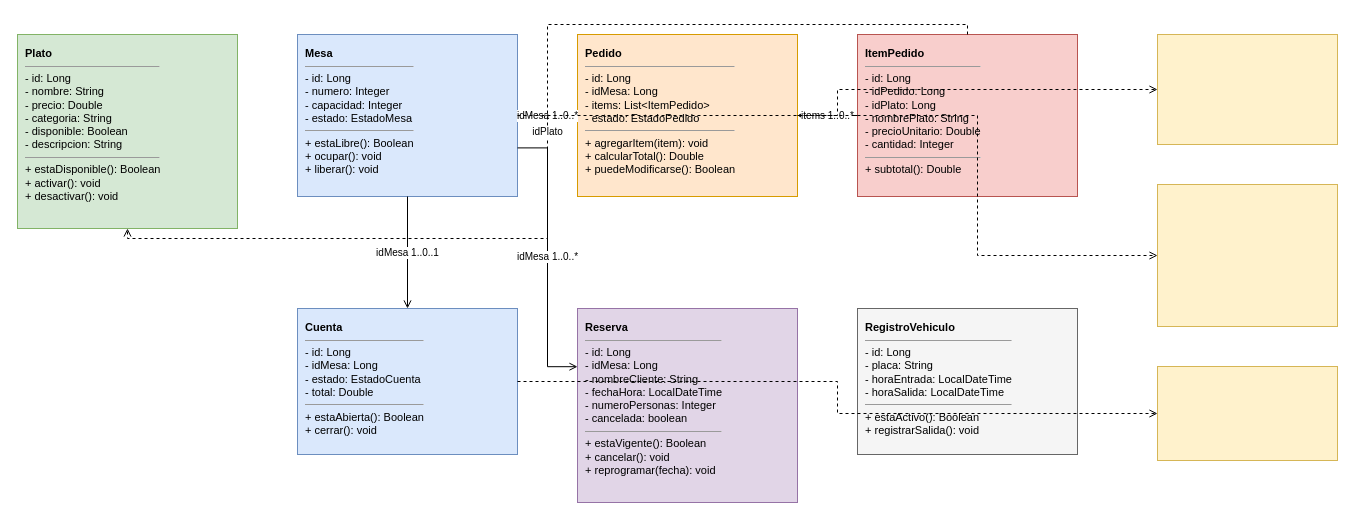
This 1355x520 diagram has some shape labels left out. The box of each missing label's shape, as (x1, y1, x2, y2) in pixels:
«enumeration» EstadoCuenta ABIERTA CERRADA: (1156, 366, 1338, 460)
«enumeration» EstadoMesa LIBRE OCUPADA RESERVADA: (1156, 34, 1338, 144)
«enumeration» EstadoPedido RECIBIDO EN_PREPARACION LISTO ENTREGADO CANCELADO: (1156, 184, 1338, 326)
